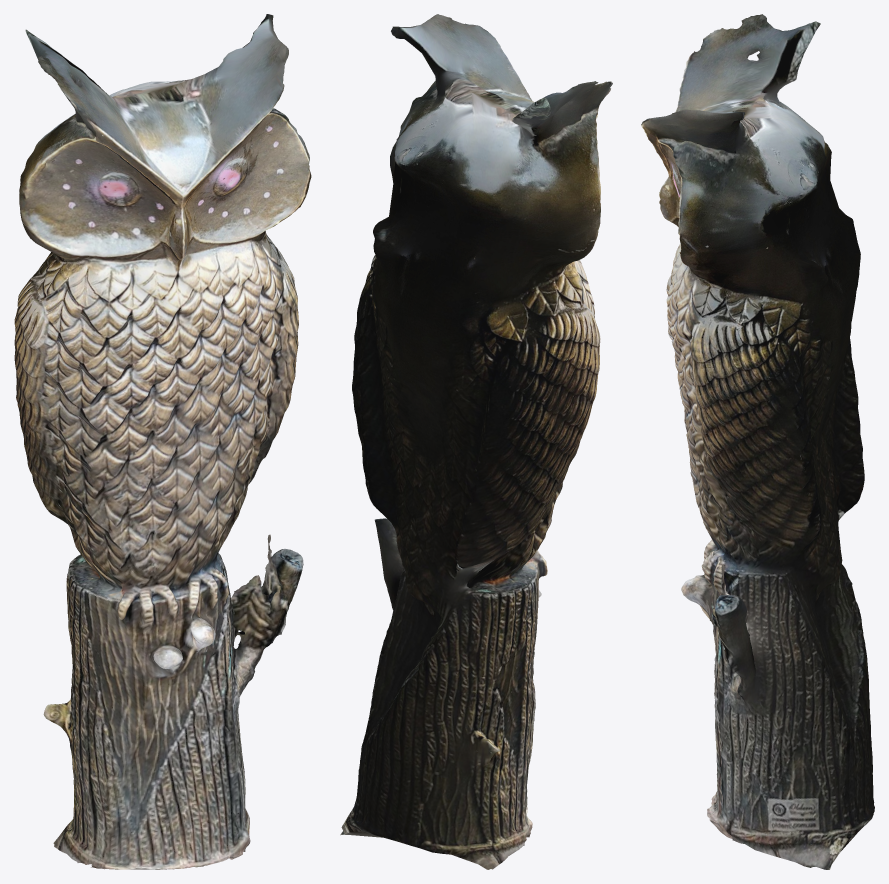
File: owl_44f88995.glb
3 renders of one model, left to right at view 1: azimuth 30°, elevation 25°; view 2: azimuth 150°, elevation 25°; view 3: azimuth 270°, elevation 25°, orthographic. The views are drawn at different scales.
Visible parts, largest first — view 1: Object_2; view 2: Object_2; view 3: Object_2.
Part boxes in pixels (x1,y1,x2,y2): Object_2: [14, 14, 311, 869]; Object_2: [340, 14, 612, 869]; Object_2: [641, 14, 874, 869].
Bounding box in the file's own units: 1.42 × 4.35 × 1.22.
1 material, 1 textured.
